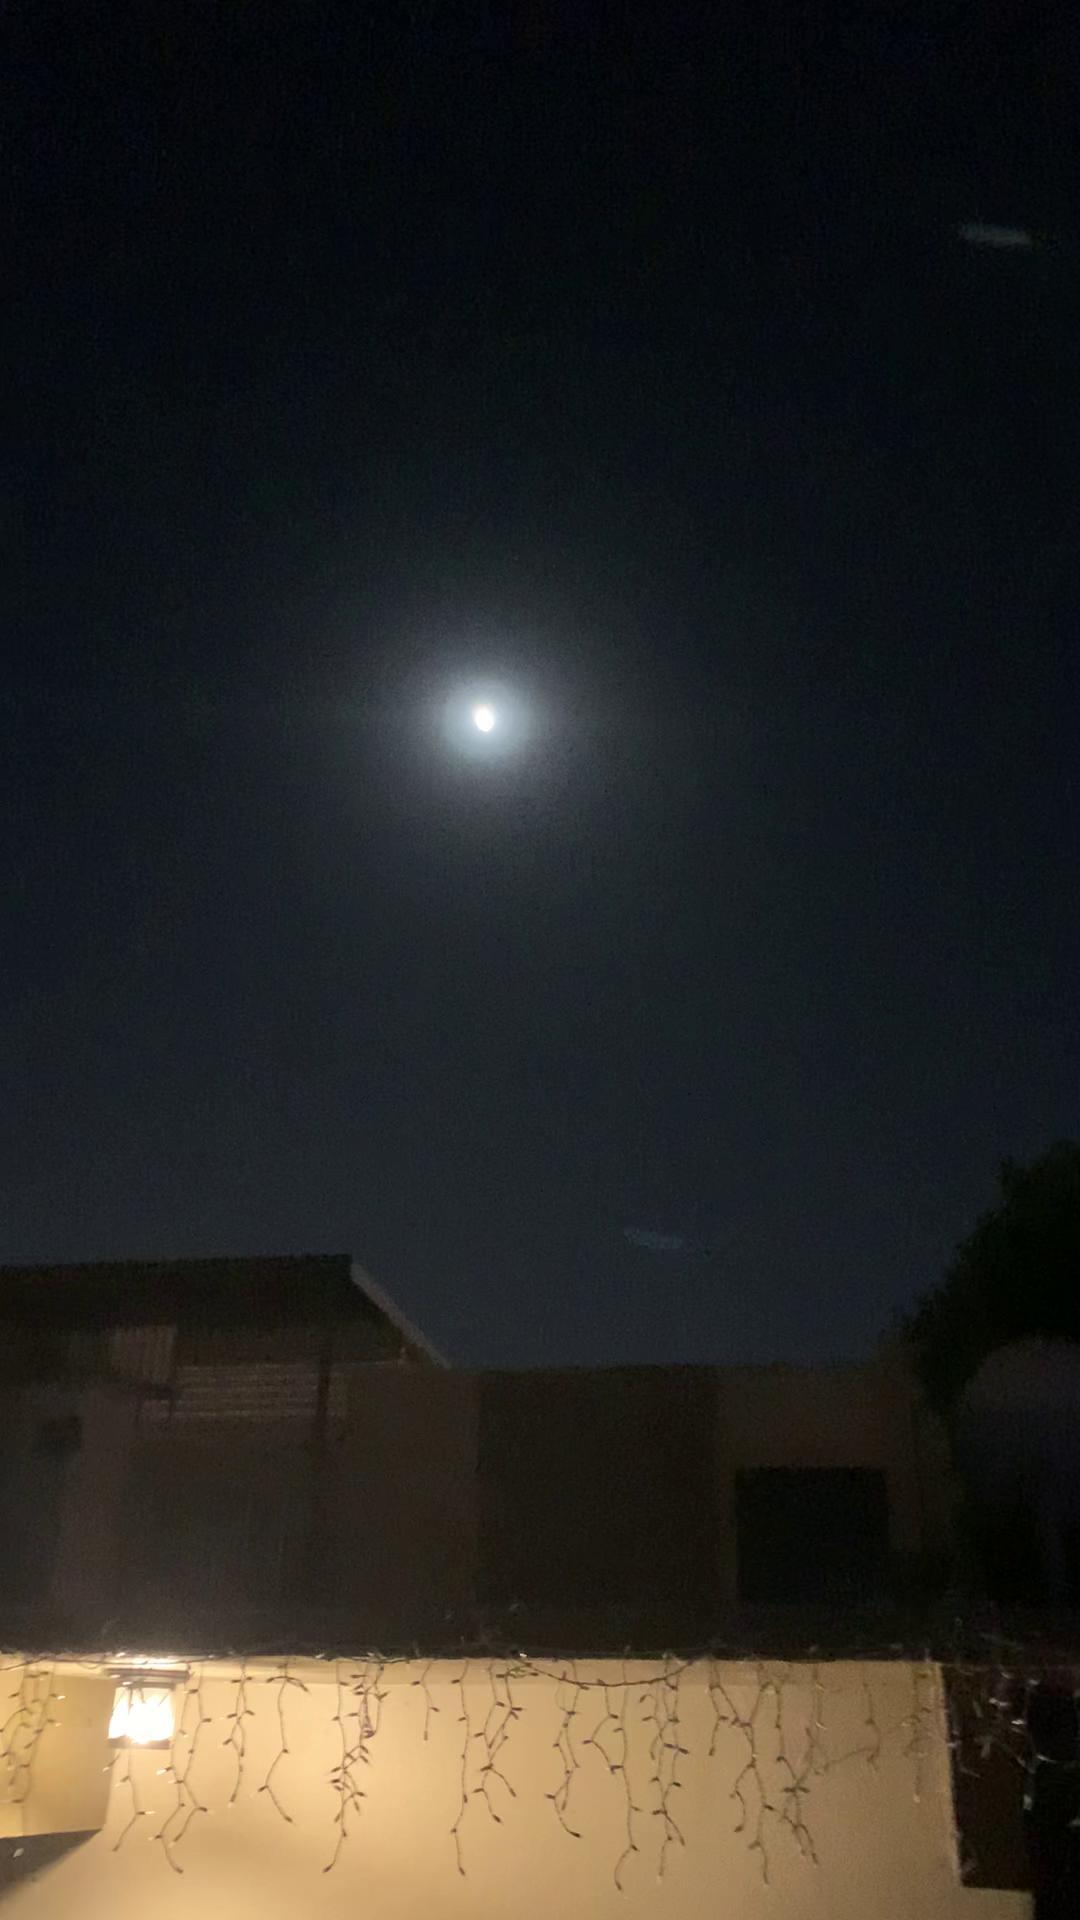moon: (451, 687, 538, 766)
